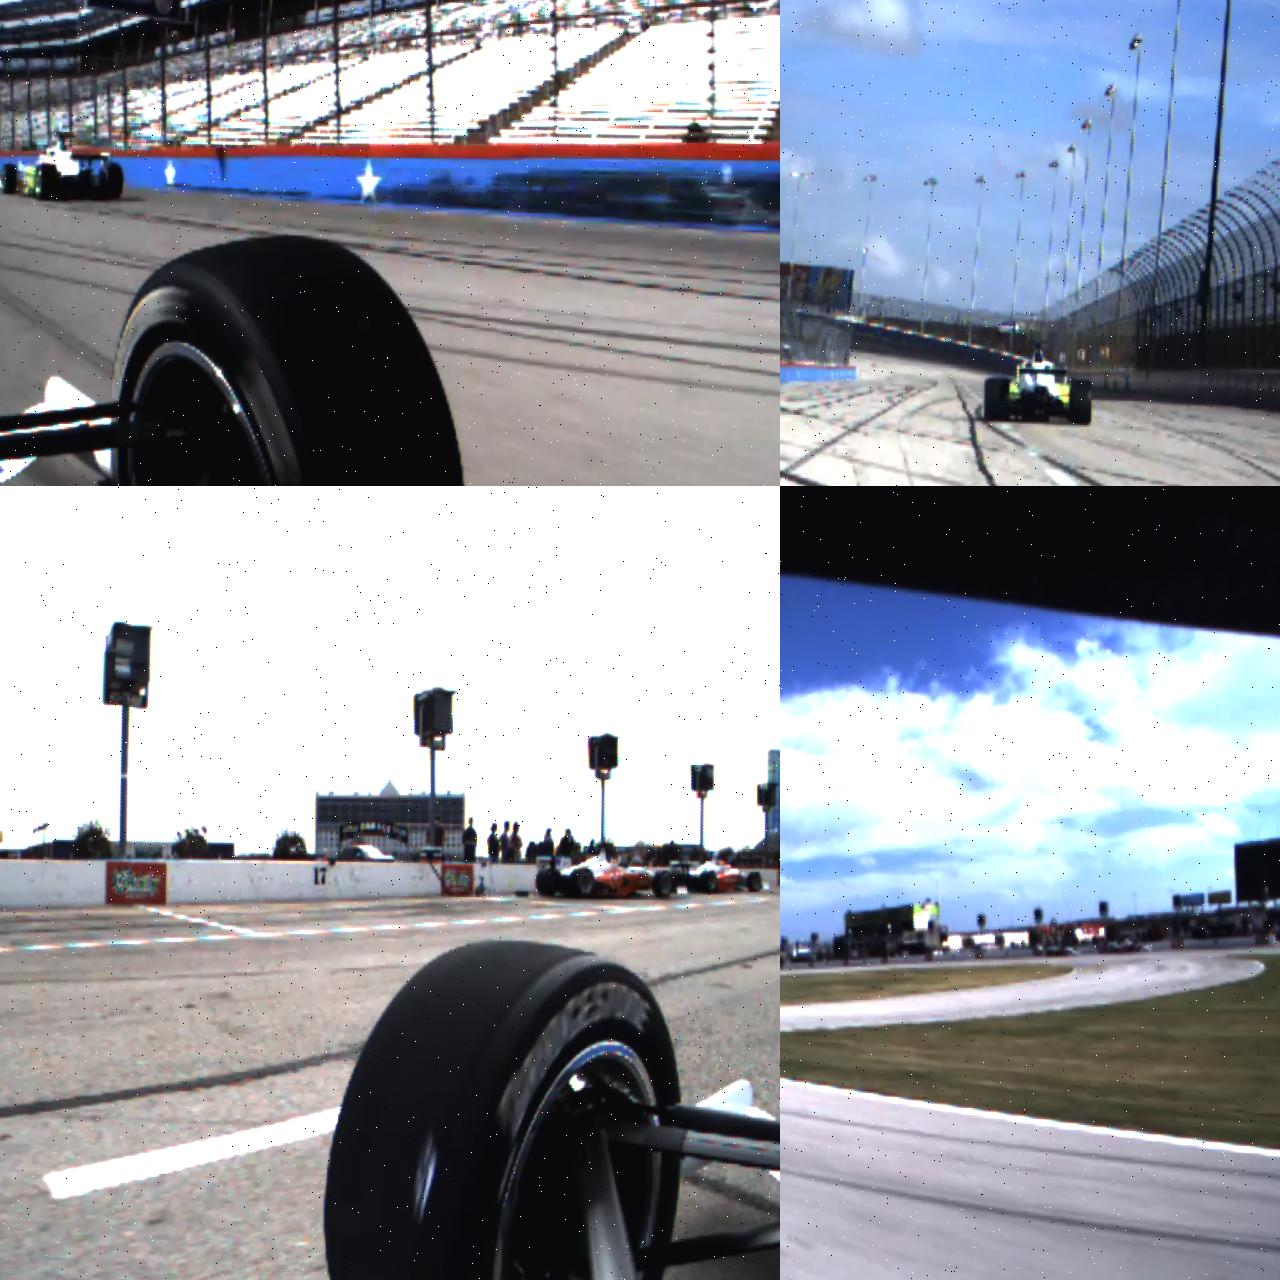AV: (0, 128, 125, 202), (536, 842, 688, 901), (985, 340, 1092, 423)
Wheel: (320, 934, 685, 1280), (111, 233, 469, 486), (983, 377, 1012, 422), (1070, 379, 1092, 424), (568, 867, 595, 899), (535, 869, 560, 898), (36, 163, 56, 200), (108, 163, 124, 199), (652, 871, 672, 899), (2, 163, 18, 195), (700, 870, 719, 894), (747, 871, 763, 892)
